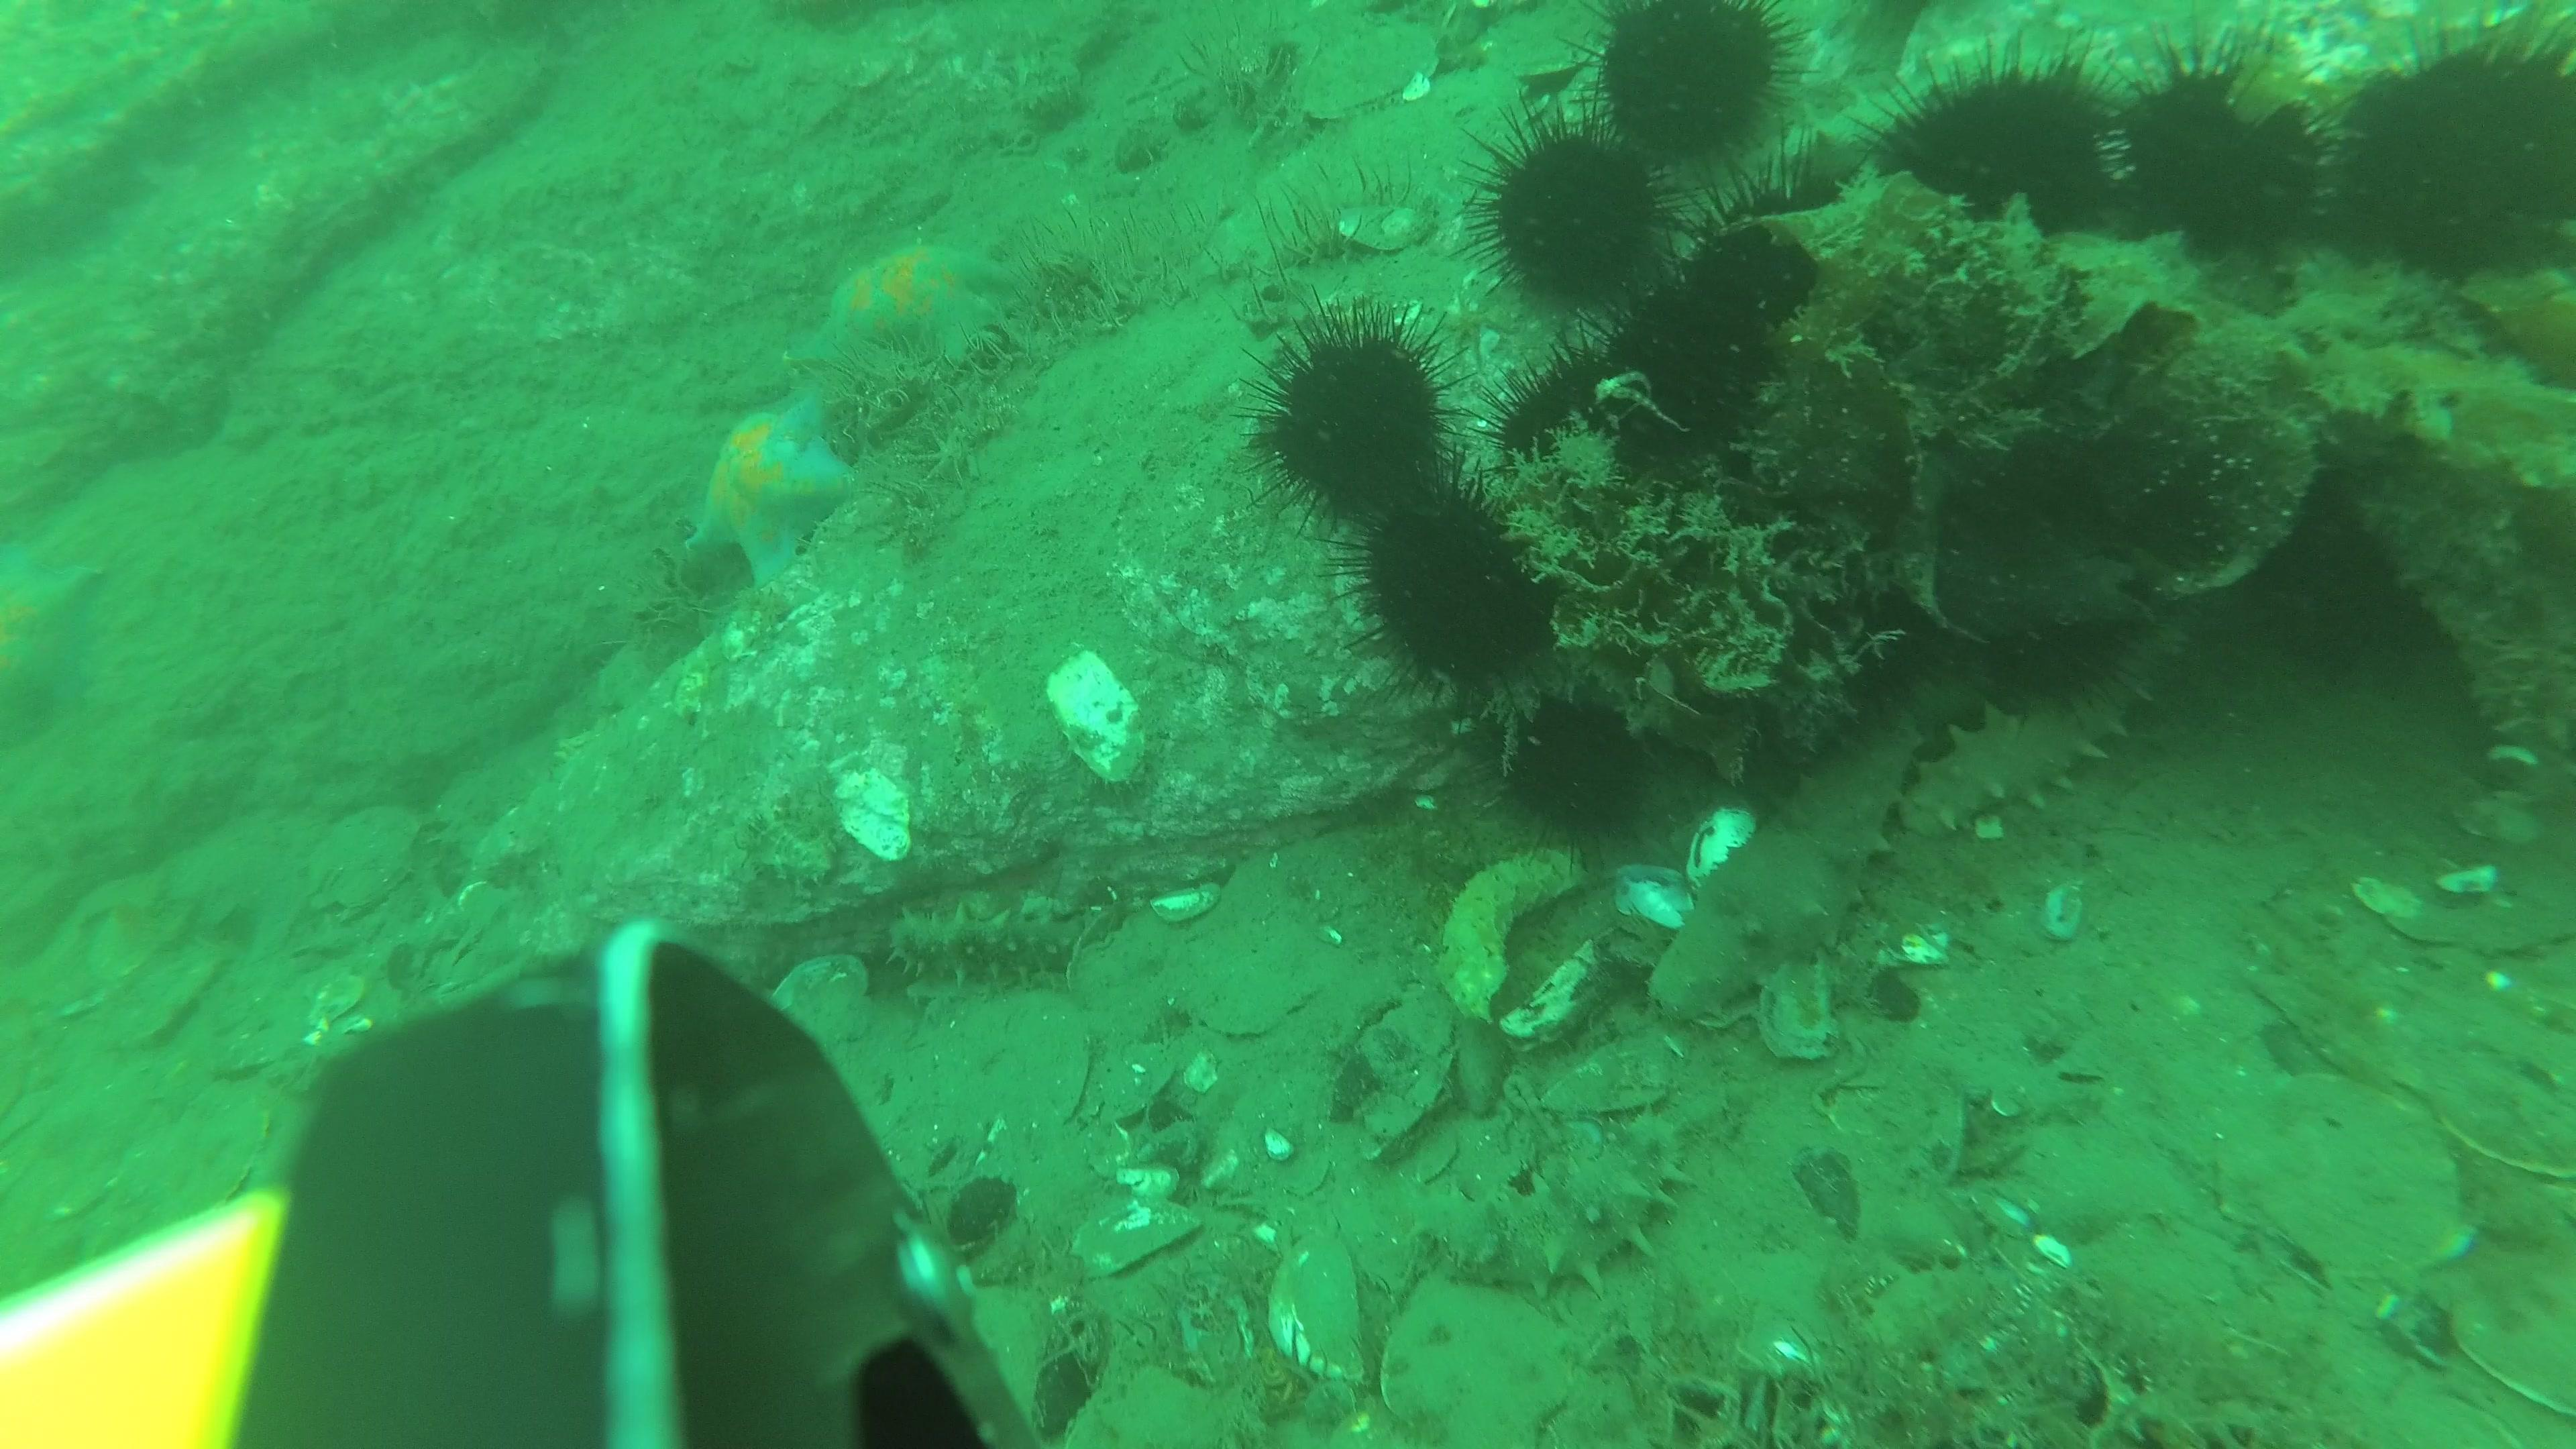echinus: (2337, 7, 2576, 301), (1884, 35, 2127, 294), (2104, 34, 2341, 295), (2254, 430, 2484, 699), (1460, 90, 1690, 341), (1251, 295, 1472, 540), (1359, 464, 1553, 725), (1683, 140, 1886, 361), (1571, 0, 1812, 184), (1594, 265, 1782, 481), (1959, 540, 2157, 722), (1477, 667, 1651, 870), (1488, 331, 1658, 513), (1822, 524, 1980, 694)
holothurian: (1647, 639, 1987, 1031), (1898, 603, 2201, 844), (1410, 1106, 1684, 1293), (1867, 1253, 2105, 1394), (888, 904, 1116, 991)
scallop: (2233, 1070, 2473, 1300), (1380, 1290, 1583, 1449), (81, 1093, 262, 1269), (2457, 1256, 2576, 1419), (299, 801, 428, 922), (2445, 1063, 2576, 1180), (1302, 25, 1442, 126), (757, 954, 869, 1065), (1486, 11, 1605, 80)
starfish: (786, 235, 1017, 379), (688, 391, 849, 593), (0, 541, 103, 750)
